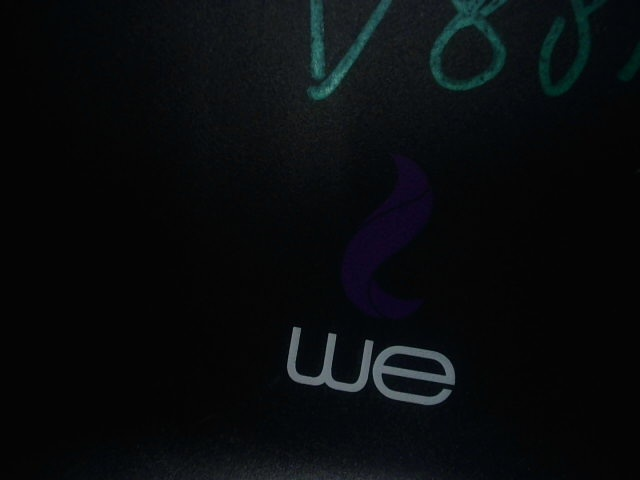AT_We: (251, 146, 482, 414)
